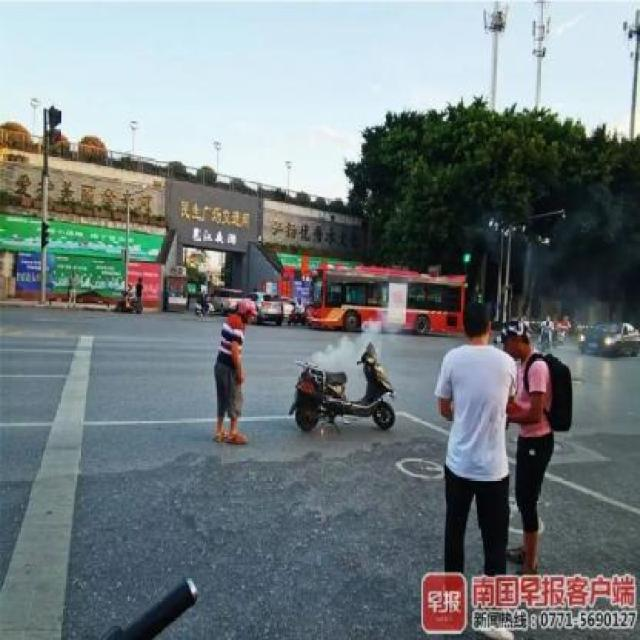Smoke: (313, 322, 378, 373)
